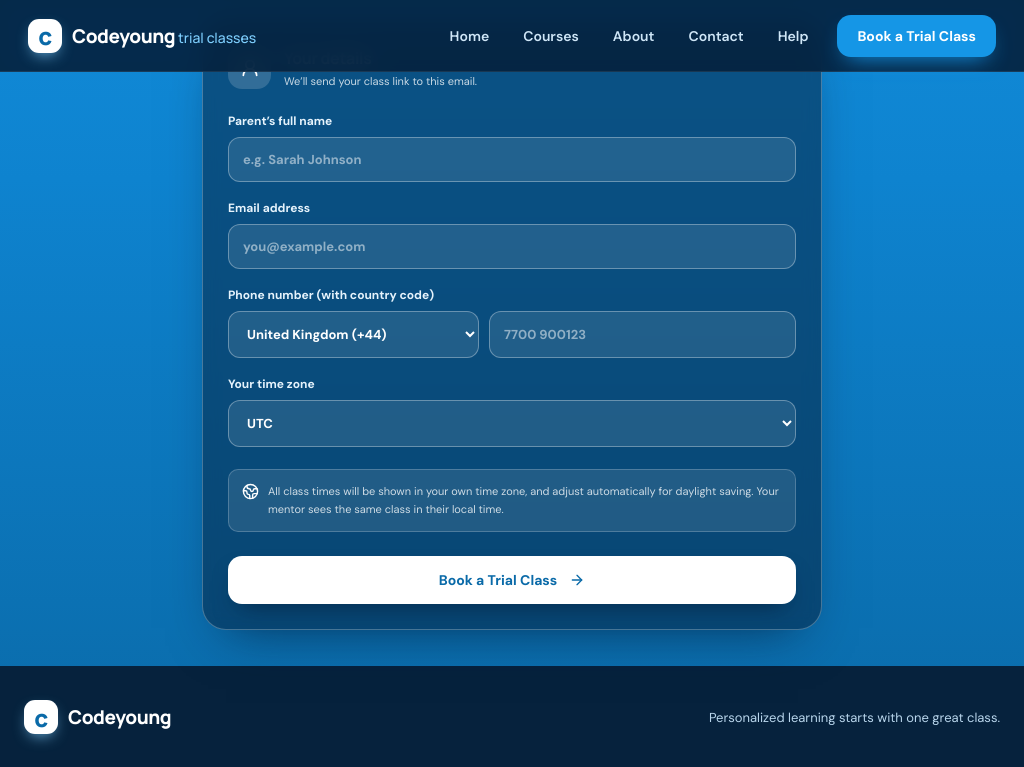
Test: parent booking journey (no login) › validates the details before continuing
The image size is (1024, 767).
(page scrolled)
Click the button "Book a Trial Class" at (512, 580), box [228,556,796,604]
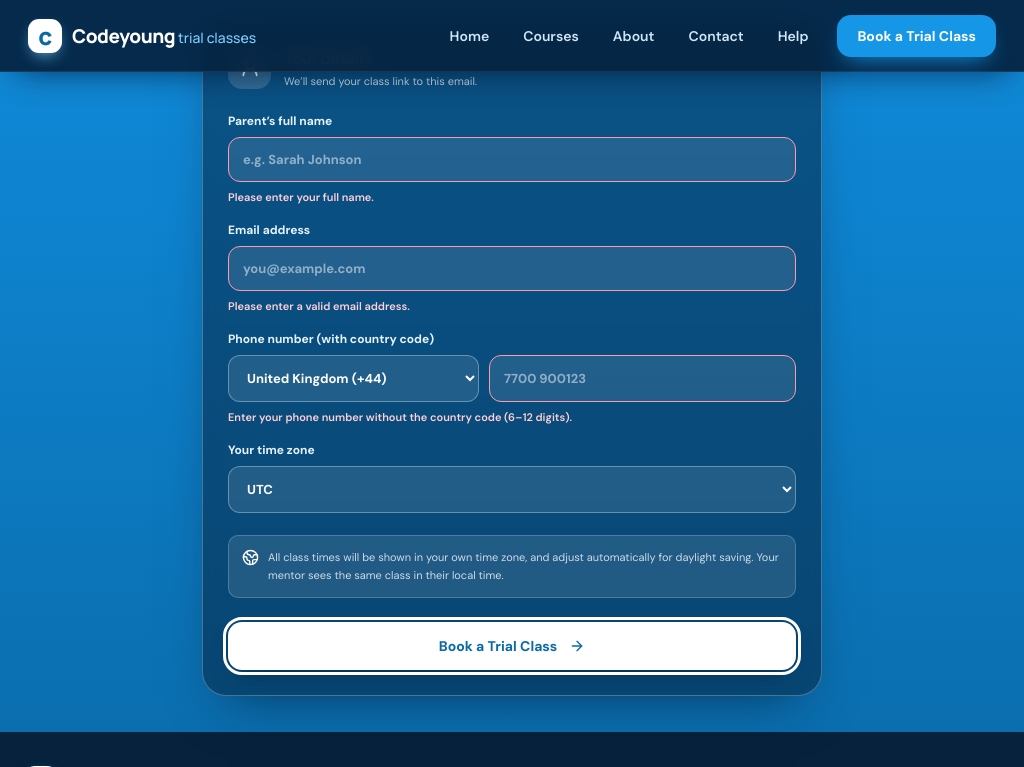
Expected: the text "Please enter your full name." is shown, [228,190,374,204]
Expected: the text "Please enter a valid email address." is shown, [228,299,410,313]
Expected: the text "phone number without the country code" is shown, [228,410,572,424]
